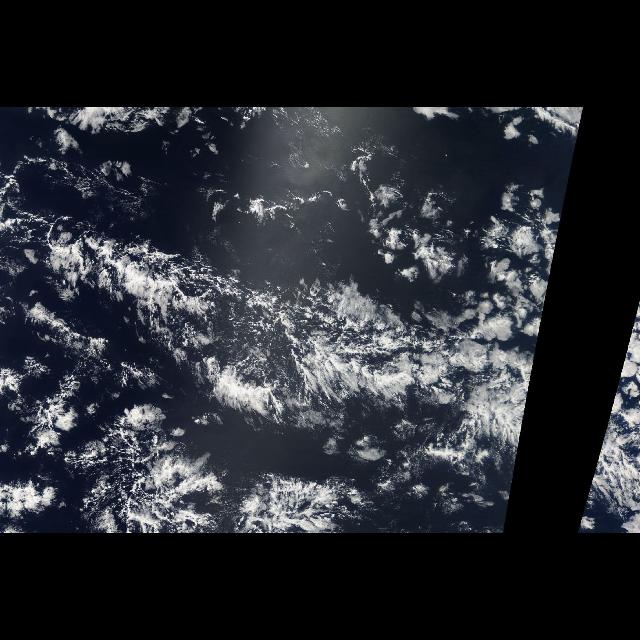Fish: (41, 201, 428, 429)
